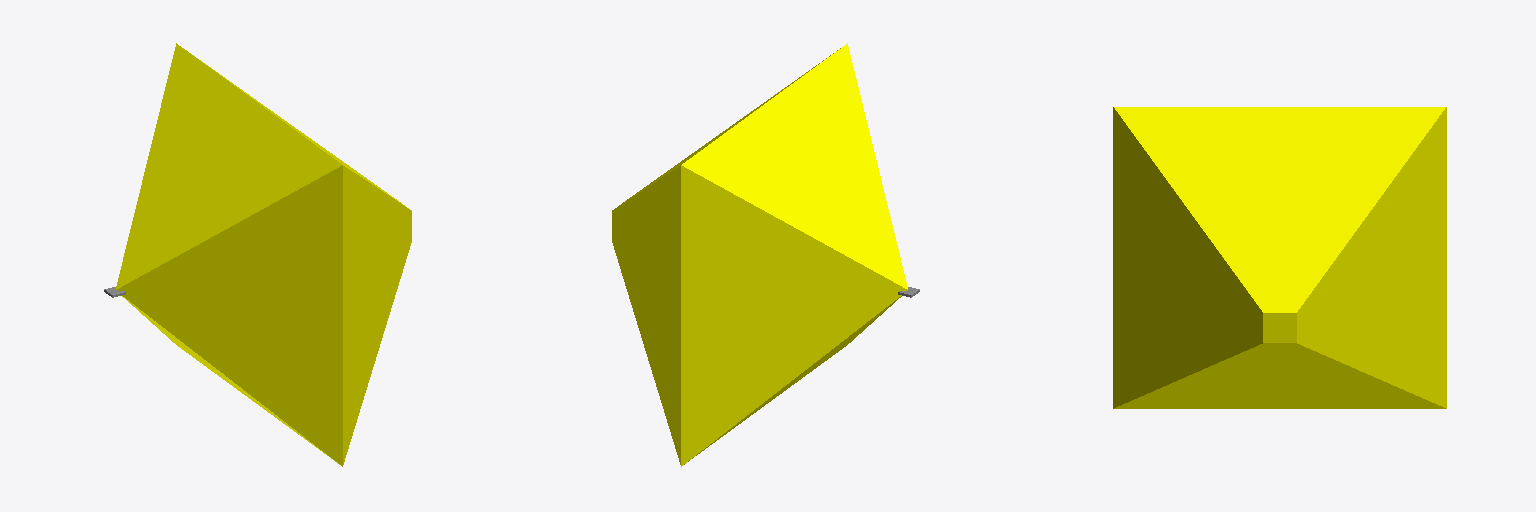
Rendered from mis_obj_MoveFloor5_HD.obj.
3 views of the same model, side by side, from view 1: azimuth 30°, elevation 25°; view 2: azimuth 150°, elevation 25°; view 3: azimuth 270°, elevation 25° (orthographic).
Parts seen in each view (by area): view 1: wave; view 2: wave; view 3: wave.
Boxes of the visible parts, box(x1,y1,x2,y2) form: wave: box(116, 43, 411, 466); wave: box(612, 43, 907, 466); wave: box(1113, 107, 1446, 408).
Bounding box in the file's own units: 3690 × 3600 × 3600.